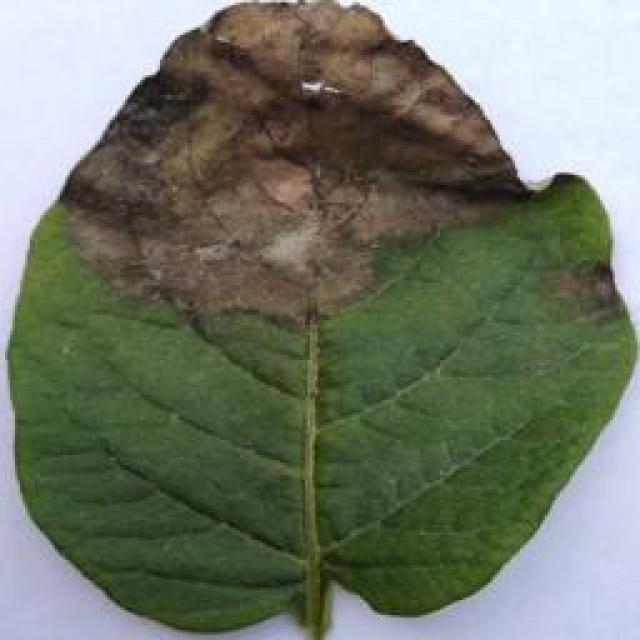Potato_Late_Blight: (6, 8, 631, 634)
